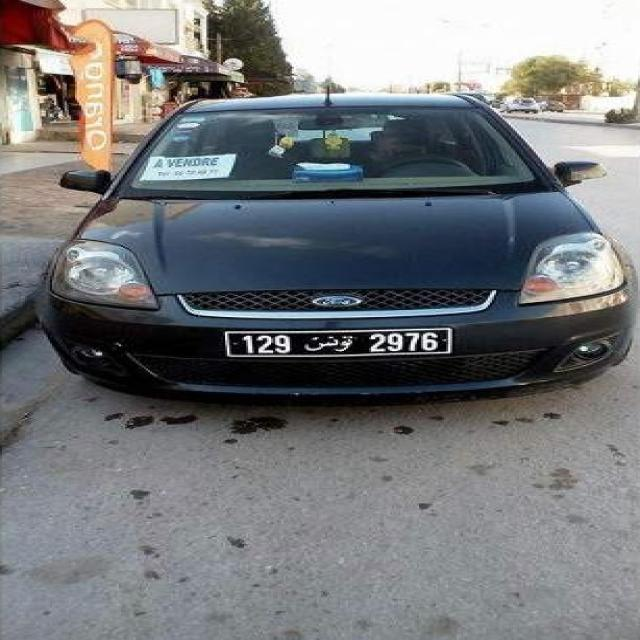licence plate: (229, 331, 447, 354)
